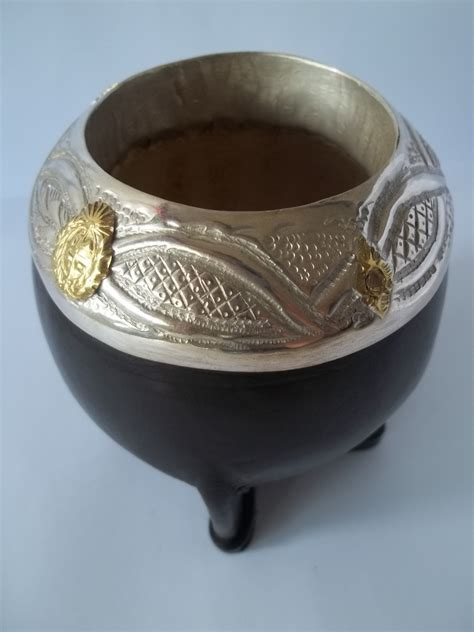cuero: (21, 249, 452, 557)
